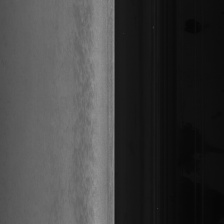silk_spot: (74, 84, 96, 150)
